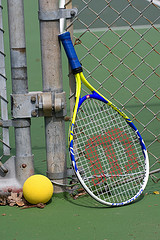tennis ball: (22, 173, 54, 206)
